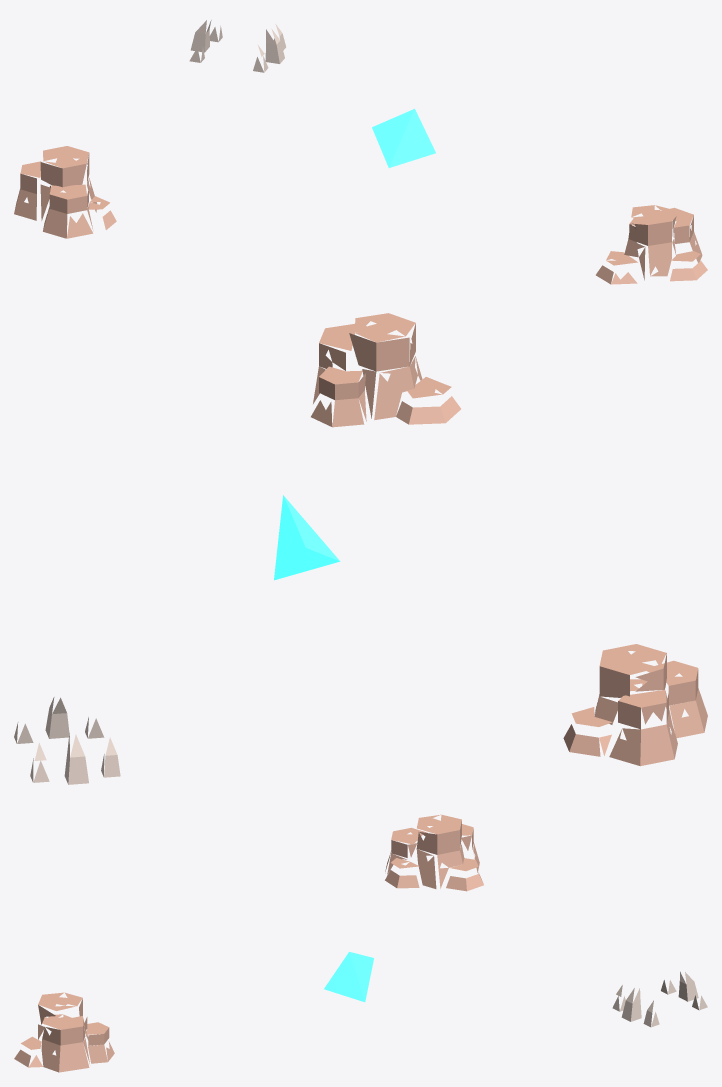
File: poi_alien_hive_lod1.glb
3 renders of one model, top to bottom at view 1: azimuth 30°, elevation 25°; view 2: azimuth 150°, elevation 25°; view 3: azimuth 270°, elevation 25°, orthographic. The views are drawn at different scales.
Visible parts, largest first — view 1: rock_crystalsLargeA.002, rock_crystalsLargeB.002, Alien_Core.001, bones.002; view 2: rock_crystalsLargeA.002, rock_crystalsLargeB.002, bones.002, Alien_Core.001; view 3: rock_crystalsLargeA.002, rock_crystalsLargeB.002, Alien_Core.001, bones.002.
Part boxes in pixels (<box>): rock_crystalsLargeA.002: <box>14,146,116,238</box>; rock_crystalsLargeB.002: <box>596,205,707,284</box>; Alien_Core.001: <box>372,108,435,167</box>; bones.002: <box>189,20,285,72</box>; rock_crystalsLargeA.002: <box>563,644,707,766</box>; rock_crystalsLargeB.002: <box>311,313,460,427</box>; bones.002: <box>14,697,120,784</box>; Alien_Core.001: <box>274,495,340,580</box>; rock_crystalsLargeA.002: <box>385,814,483,891</box>; rock_crystalsLargeB.002: <box>14,992,114,1072</box>; Alien_Core.001: <box>324,952,373,1002</box>; bones.002: <box>612,971,707,1027</box>.
Bounding box in the file's own units: 5.21 × 0.6905 × 7.07.
